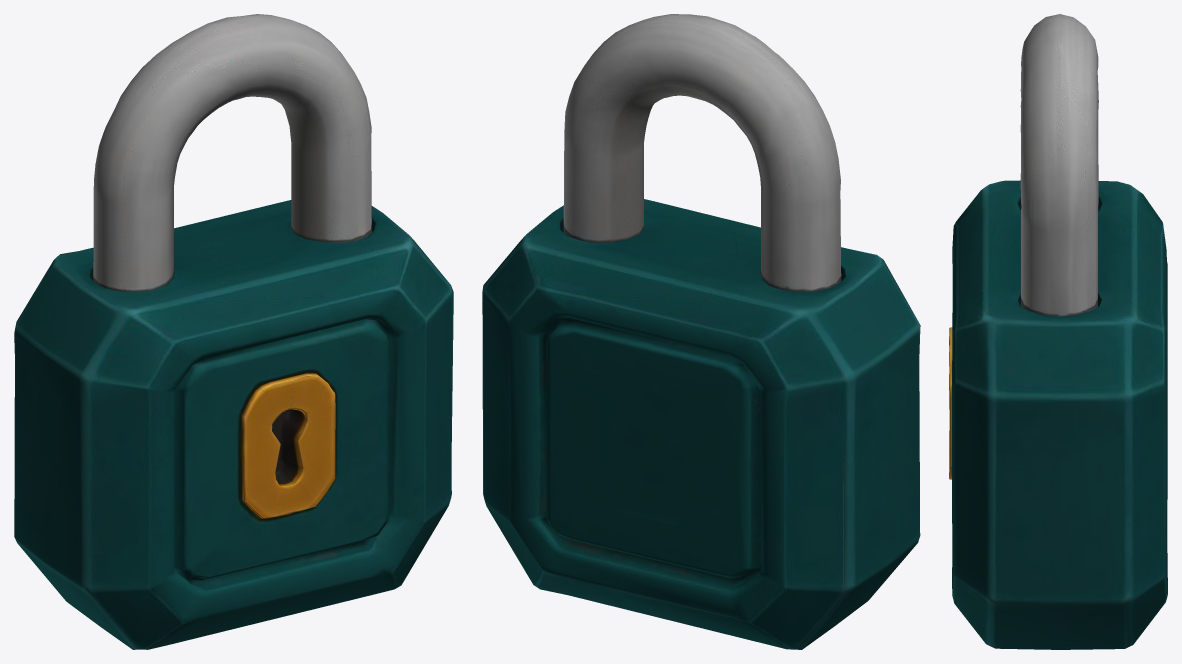
The model's file is storage-lock.glb.
3 renders of one model, left to right at view 1: azimuth 30°, elevation 25°; view 2: azimuth 150°, elevation 25°; view 3: azimuth 270°, elevation 25°, orthographic. The views are drawn at different scales.
Parts seen in each view (by area): view 1: storage-lock; view 2: storage-lock; view 3: storage-lock.
Boxes of the visible parts, x1,y1,x2,y2 form: storage-lock: (14,14,453,649); storage-lock: (482,14,920,649); storage-lock: (949,14,1167,649).
Size of the model in its own units: 0.0688 by 0.1 by 0.0355.
Materials: 1 (1 with a texture image).
